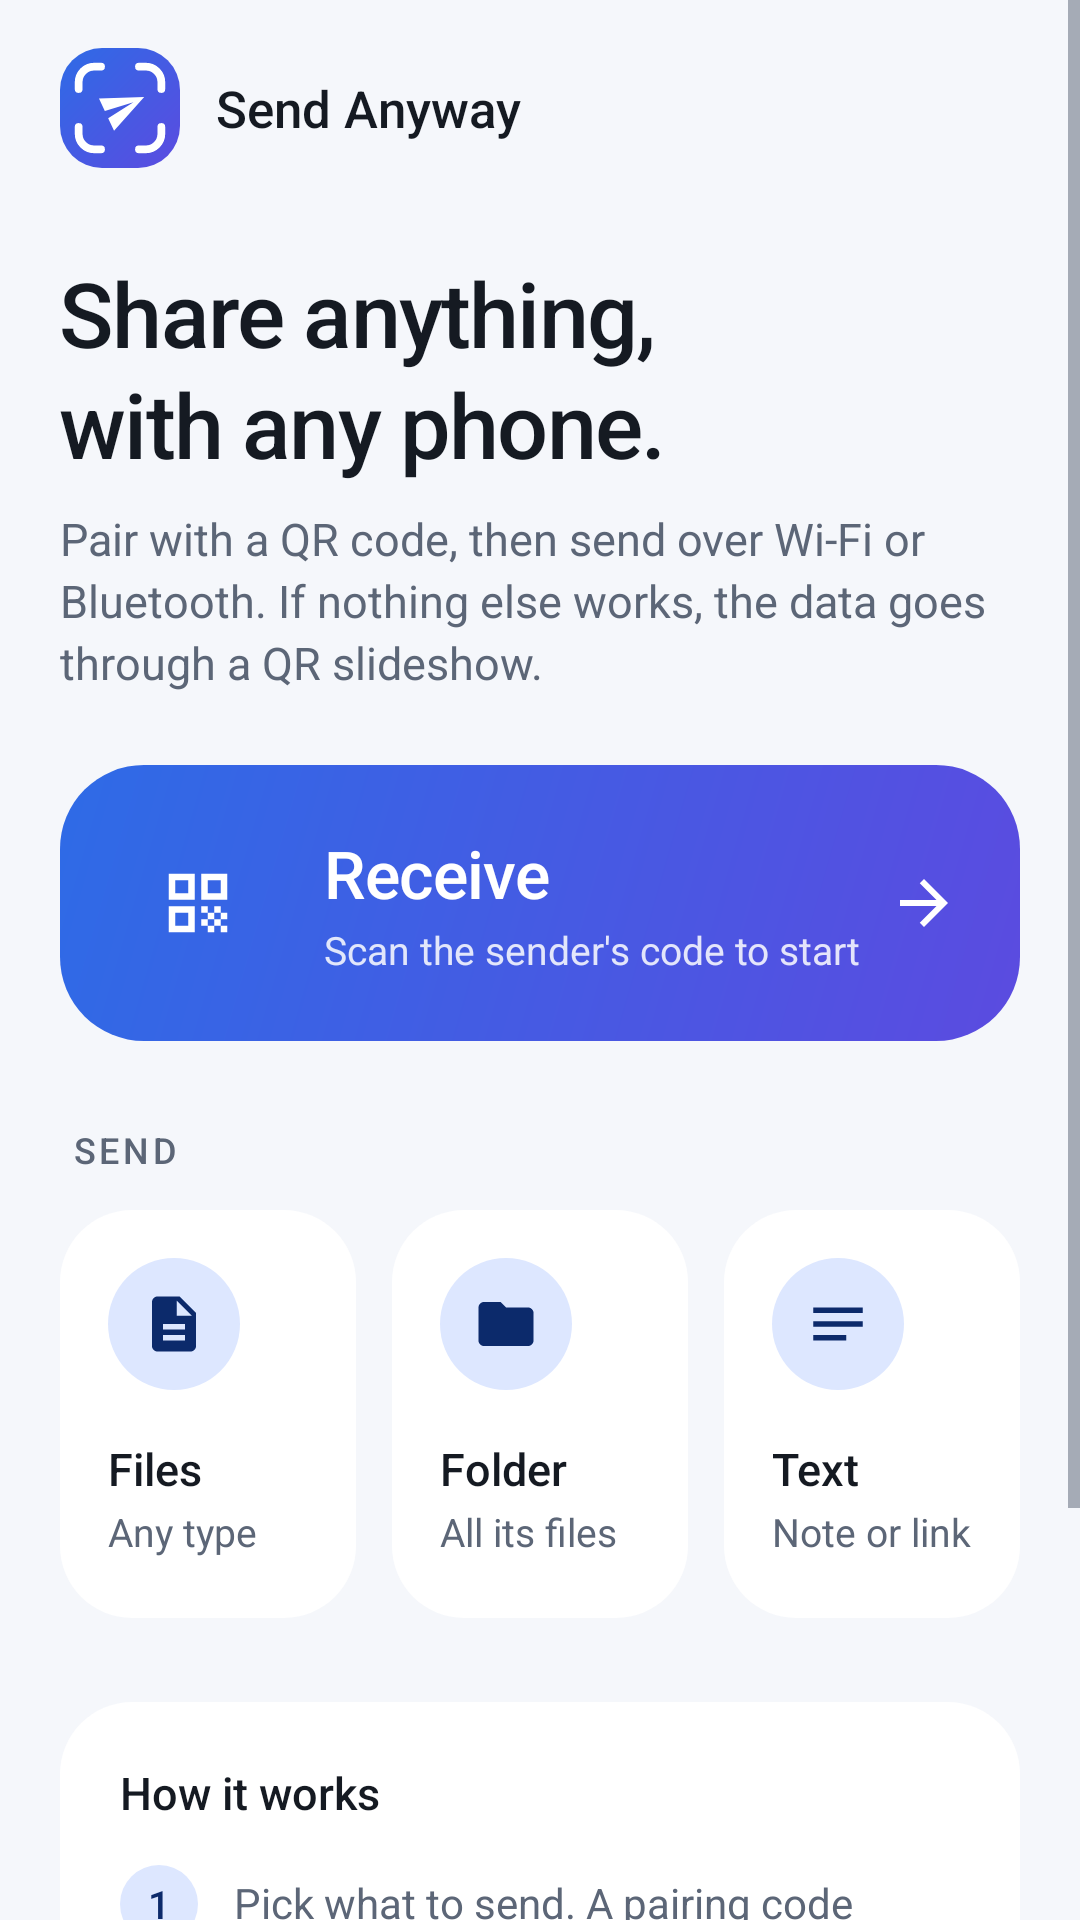

Screen size 1080 x 1920. Icon name, then its center in pixels as point (x, y):
arrow forward: point (924, 903)
